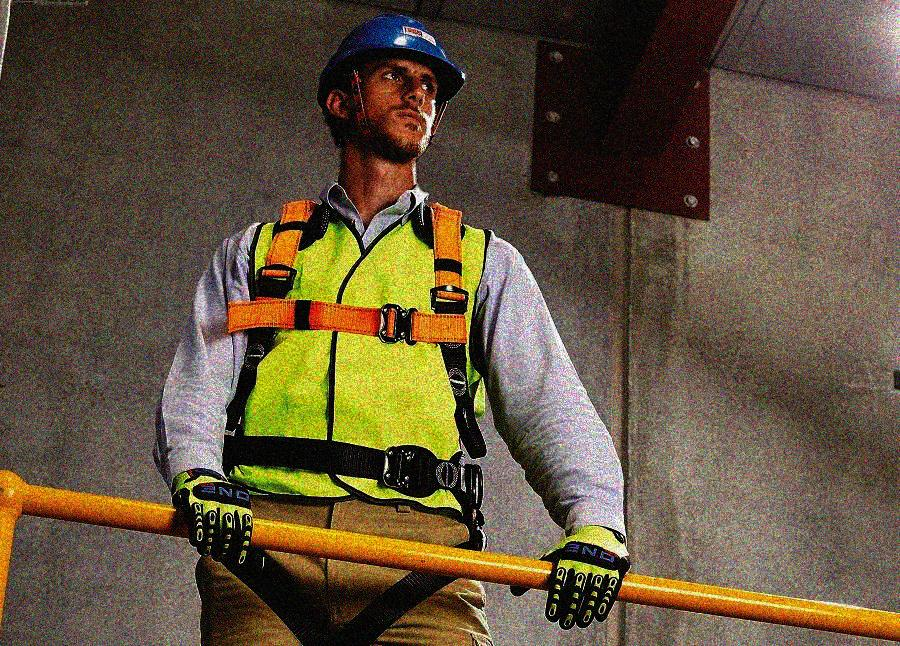helmet: (316, 11, 466, 167)
